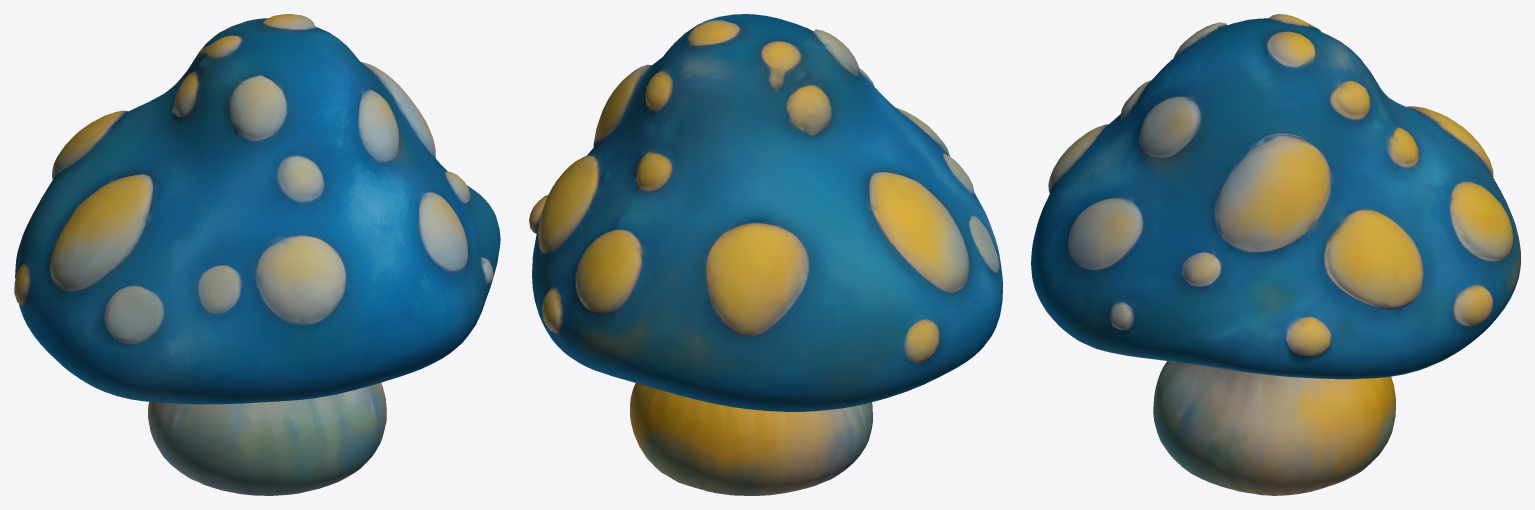
Rendered from bounce_mushroom_3d.r1.glb.
The picture shows the model from 3 angles, left to right: view 1: azimuth 30°, elevation 25°; view 2: azimuth 150°, elevation 25°; view 3: azimuth 270°, elevation 25°; orthographic projection.
Visible parts, largest first — view 1: tripo_node_dc704cda-f56d-4ab1-bef7-a47e51402b20; view 2: tripo_node_dc704cda-f56d-4ab1-bef7-a47e51402b20; view 3: tripo_node_dc704cda-f56d-4ab1-bef7-a47e51402b20.
Boxes of the visible parts, x1,y1,x2,y2 form: tripo_node_dc704cda-f56d-4ab1-bef7-a47e51402b20: (14,14,500,495); tripo_node_dc704cda-f56d-4ab1-bef7-a47e51402b20: (529,14,1002,495); tripo_node_dc704cda-f56d-4ab1-bef7-a47e51402b20: (1031,14,1520,495).
Size of the model in its own units: 0.9972 by 0.9881 by 1.
Materials: 1 (1 with a texture image).
